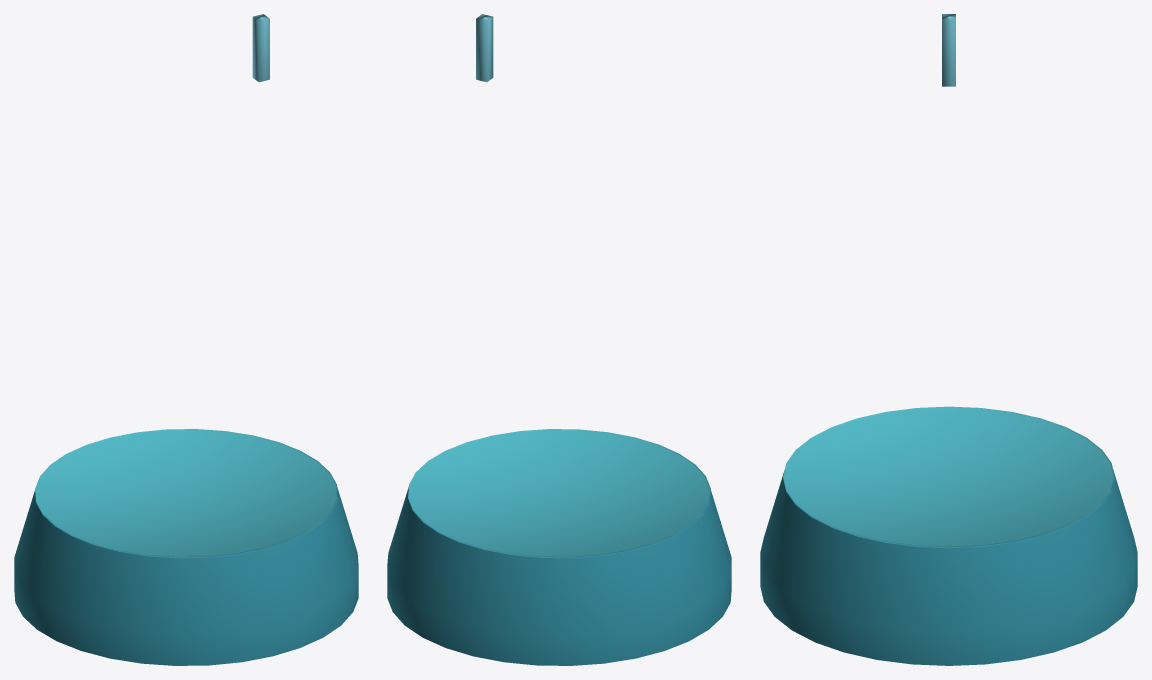
Rendered from VLAB_liquid.fbx.
The picture shows the model from 3 angles, left to right: view 1: azimuth 30°, elevation 25°; view 2: azimuth 150°, elevation 25°; view 3: azimuth 270°, elevation 25°; orthographic projection. The views are drawn at different scales.
Parts seen in each view (by area): view 1: VLAB_liquid_VolumeProxy_VIS, VLAB_liquid_Surface_VIS, VLAB_liquid_PourGuide_VIS; view 2: VLAB_liquid_VolumeProxy_VIS, VLAB_liquid_Surface_VIS, VLAB_liquid_PourGuide_VIS; view 3: VLAB_liquid_VolumeProxy_VIS, VLAB_liquid_Surface_VIS, VLAB_liquid_PourGuide_VIS.
Boxes of the visible parts, bbox=[...] form: VLAB_liquid_VolumeProxy_VIS: bbox=[14, 486, 358, 665]; VLAB_liquid_Surface_VIS: bbox=[35, 429, 337, 557]; VLAB_liquid_PourGuide_VIS: bbox=[252, 14, 269, 82]; VLAB_liquid_VolumeProxy_VIS: bbox=[387, 486, 731, 665]; VLAB_liquid_Surface_VIS: bbox=[408, 429, 710, 557]; VLAB_liquid_PourGuide_VIS: bbox=[476, 14, 493, 82]; VLAB_liquid_VolumeProxy_VIS: bbox=[760, 470, 1137, 665]; VLAB_liquid_Surface_VIS: bbox=[783, 406, 1114, 547]; VLAB_liquid_PourGuide_VIS: bbox=[942, 14, 955, 86].
Bounding box in the file's own units: 0.082 × 0.146 × 0.082.
